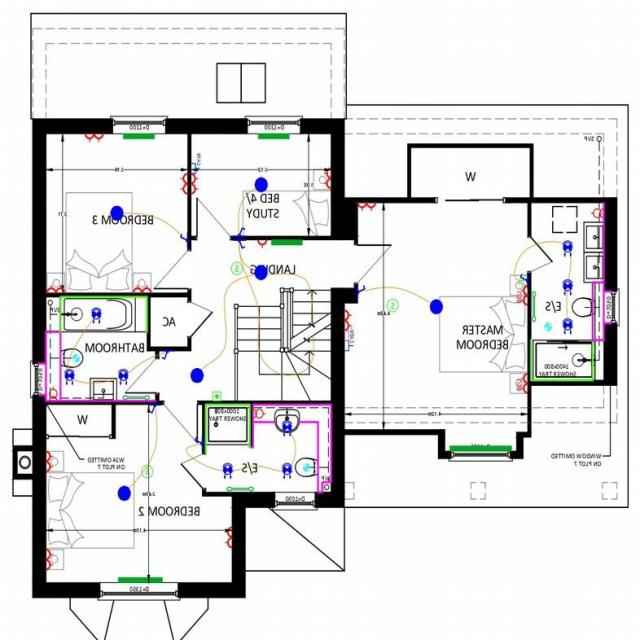Cat 6 Data Socket: (188, 158, 208, 173), (343, 338, 356, 352)
Ceiling Mounted Continuous Extract Fan With Boost Mode Activated By Light Switch: (68, 347, 86, 364), (301, 460, 317, 474), (540, 319, 553, 333)
Co-Ax TV Socket: (340, 328, 356, 340)
Double Socket: (43, 446, 59, 476), (42, 542, 59, 569), (171, 171, 187, 199), (318, 161, 332, 191), (186, 172, 202, 195), (341, 307, 356, 331), (44, 278, 69, 292), (79, 130, 108, 142), (223, 518, 232, 556), (356, 200, 380, 212), (127, 282, 152, 292)
Full Height Tiling: (57, 292, 151, 334), (528, 336, 596, 383), (200, 399, 252, 454)
Light Switch: (356, 278, 370, 298), (233, 221, 248, 237), (157, 349, 173, 363), (231, 238, 251, 249), (178, 227, 188, 247), (144, 404, 161, 415), (191, 432, 201, 449), (518, 270, 528, 285)
Low Energy Downlighter: (212, 459, 240, 484), (556, 234, 578, 264), (56, 366, 80, 389), (274, 454, 292, 484), (111, 364, 132, 387), (84, 302, 104, 323), (555, 274, 574, 296), (560, 310, 576, 336), (280, 414, 296, 439)
Low Energy Pendant Light: (104, 199, 135, 226), (182, 360, 210, 388), (247, 169, 275, 192), (423, 297, 447, 318), (250, 260, 269, 282), (115, 481, 133, 502)
Mains Wired Smoke Detector: (225, 256, 246, 278), (383, 293, 403, 315), (138, 459, 158, 480)
Programmable Room Thermostat: (208, 388, 228, 400)
Radiator: (447, 443, 514, 453), (267, 237, 308, 252), (118, 129, 157, 144), (110, 575, 168, 584), (254, 130, 292, 142)
Shaver Socket: (248, 404, 273, 418), (45, 380, 60, 400), (586, 206, 604, 221)
Single Socket: (252, 236, 270, 249)
Telephone Socket: (514, 272, 531, 284)
USB Double Socket: (514, 366, 528, 396), (512, 285, 529, 305)
